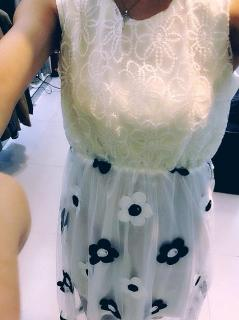vest: (56, 0, 239, 319)
